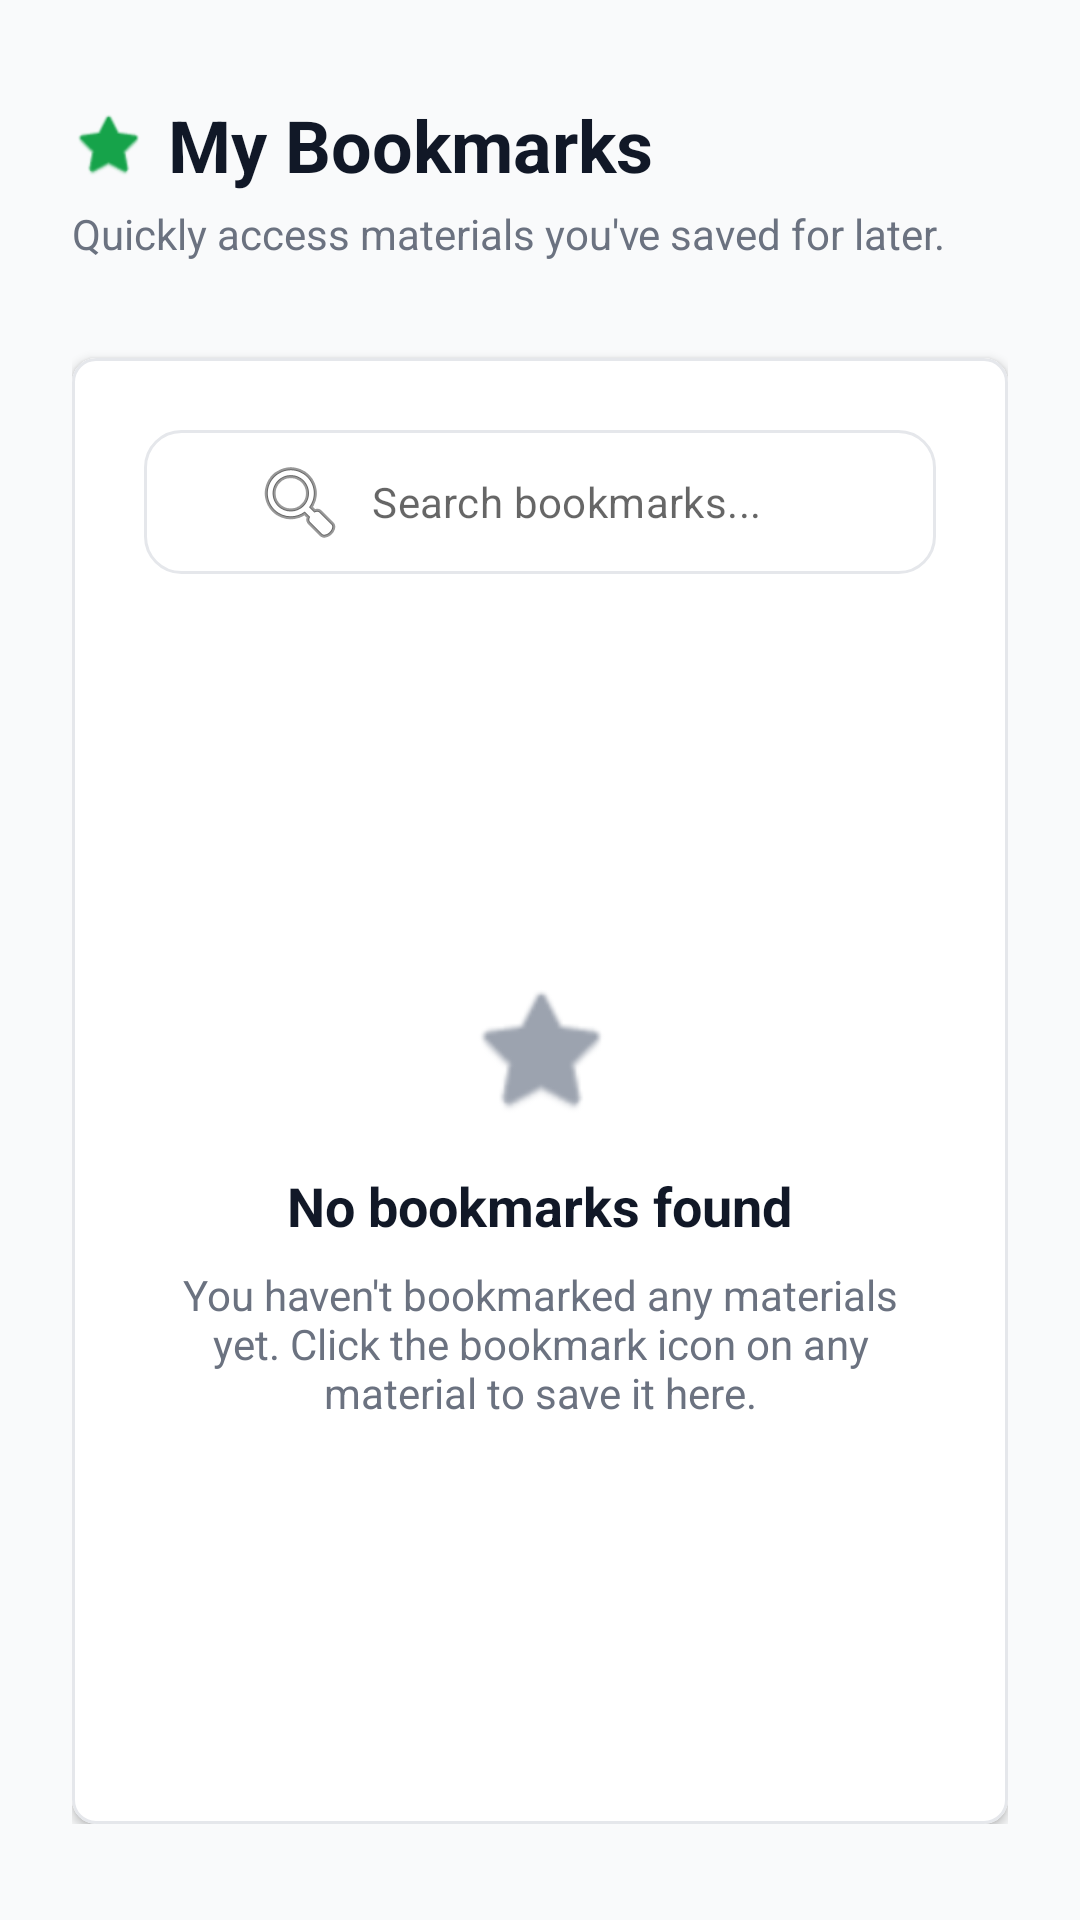

Named icons in this screenshot (1080 × 1920) and their bounding boxes, (x1, y1, x2, y2):
star off: (482, 993, 600, 1107)
star on: (79, 115, 139, 174)
